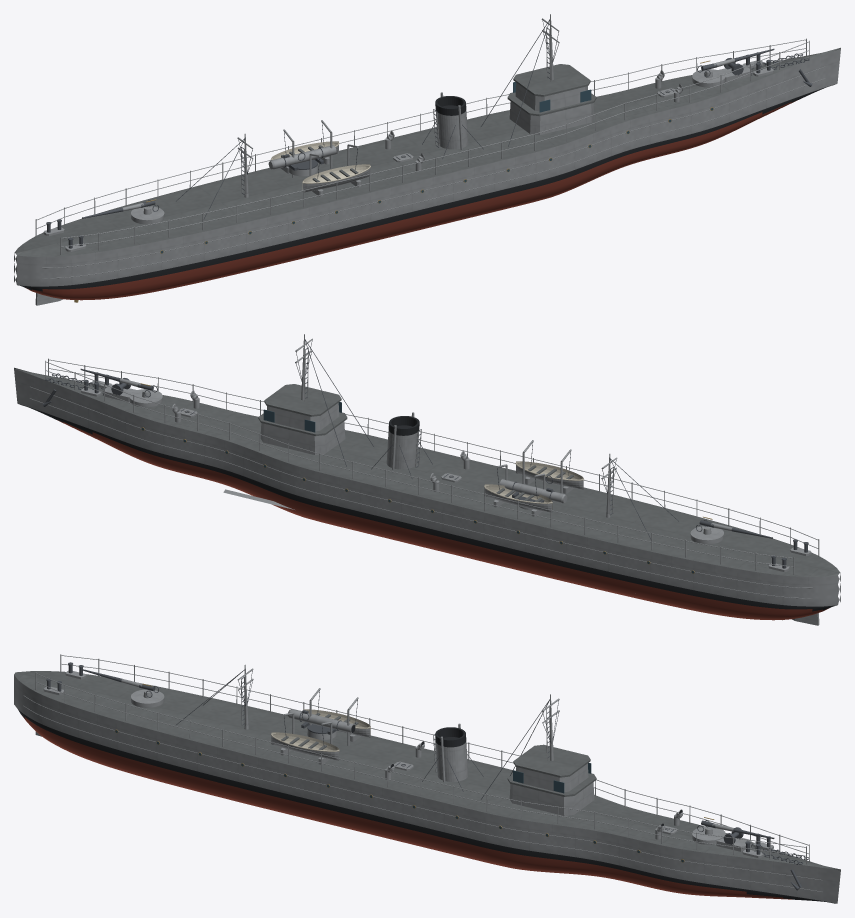
The model's file is a_boat_tb.glb.
The picture shows the model from 3 angles, top to bottom: view 1: azimuth 30°, elevation 25°; view 2: azimuth 150°, elevation 25°; view 3: azimuth 330°, elevation 25°; orthographic projection.
Parts seen in each view (by area): view 1: A-boat class; view 2: A-boat class; view 3: A-boat class.
Part boxes in pixels (x1,y1,x2,y2): A-boat class: (14,14,840,305); A-boat class: (14,334,840,625); A-boat class: (14,654,840,903).
Size of the model in its own units: 50 by 9.71 by 5.41.
8 materials, 2 textured.
